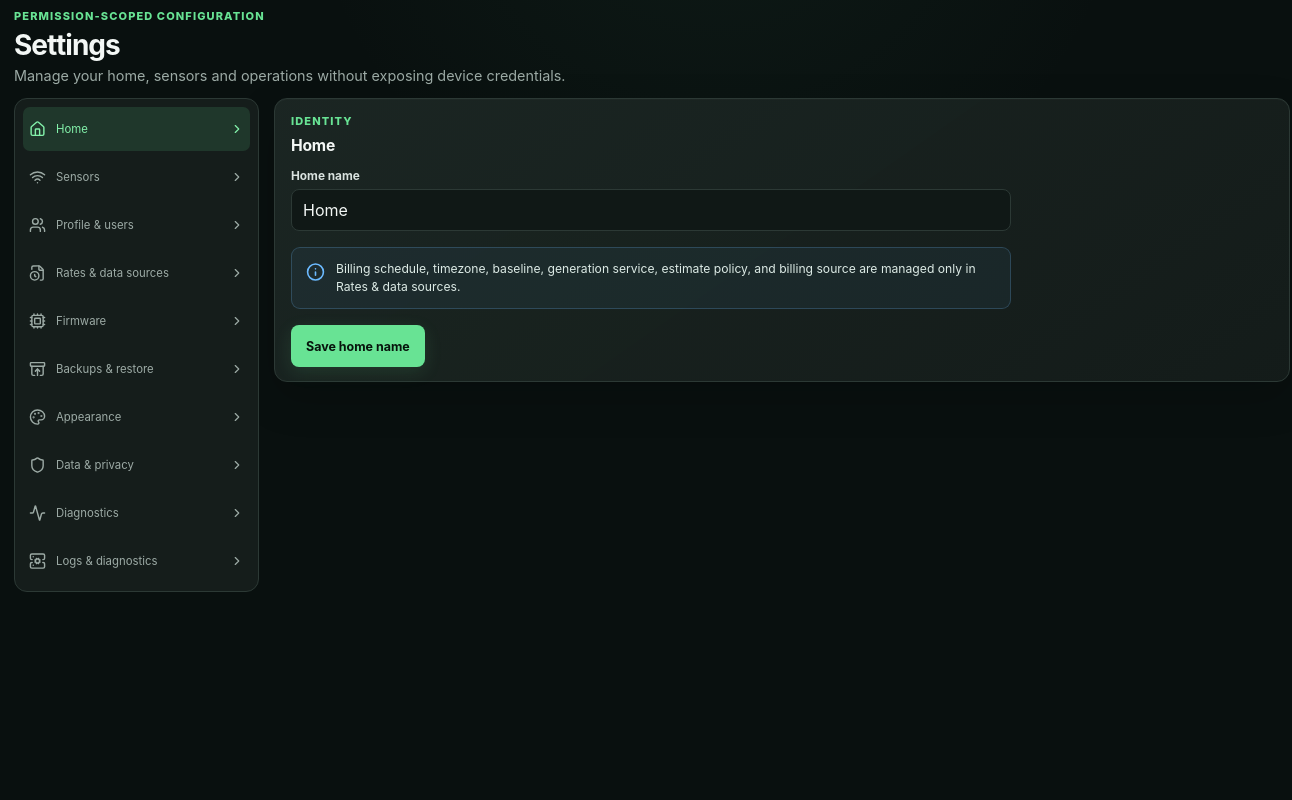
Scenario: Settings › shows backup verification and isolated restore evidence
Click the button "Backups & restore".
click(136, 369)  # box left=23, top=347, right=250, bottom=391
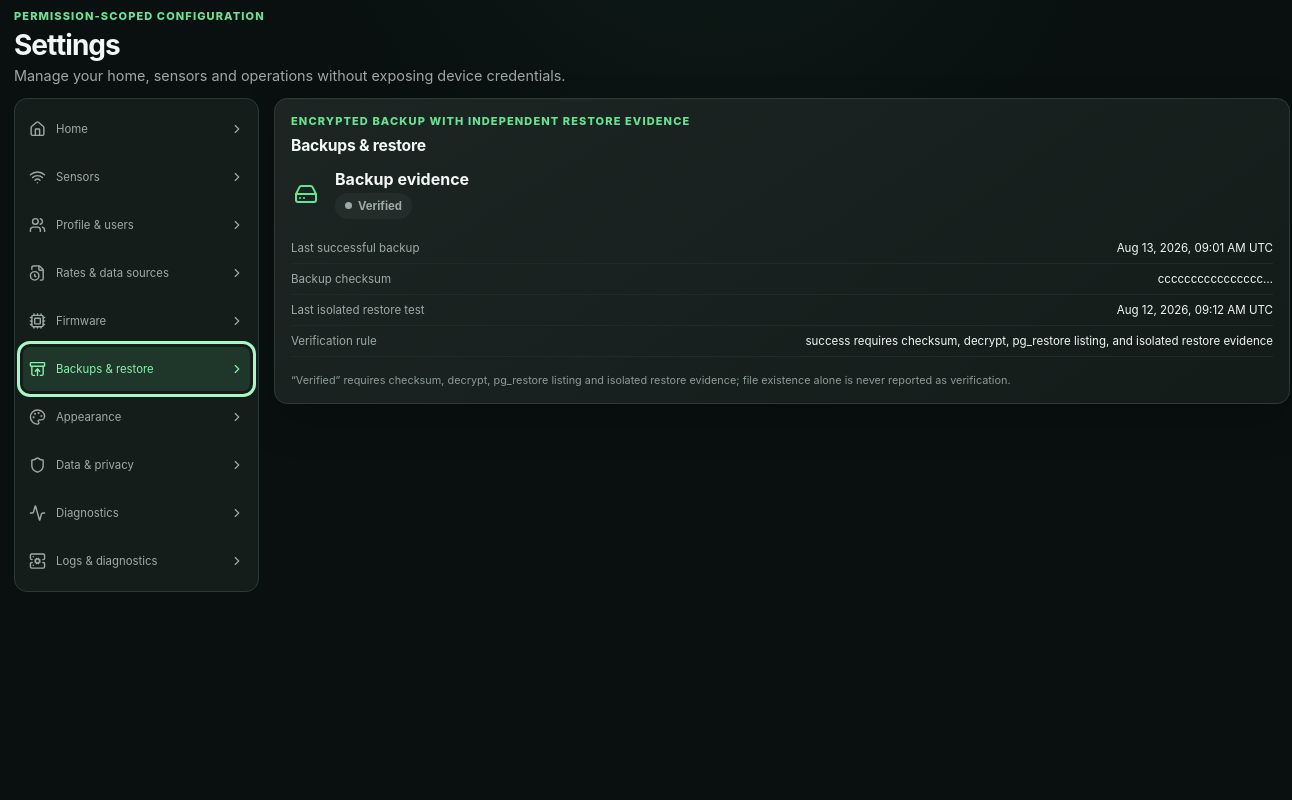
Expected: the text "Backup checksum" is shown, left=291, top=272, right=391, bottom=286
Expected: the text "Last isolated restore test" is shown, left=291, top=303, right=425, bottom=317
Expected: the text "file existence alone is never reported as verification" is shown, left=291, top=373, right=1011, bottom=387
